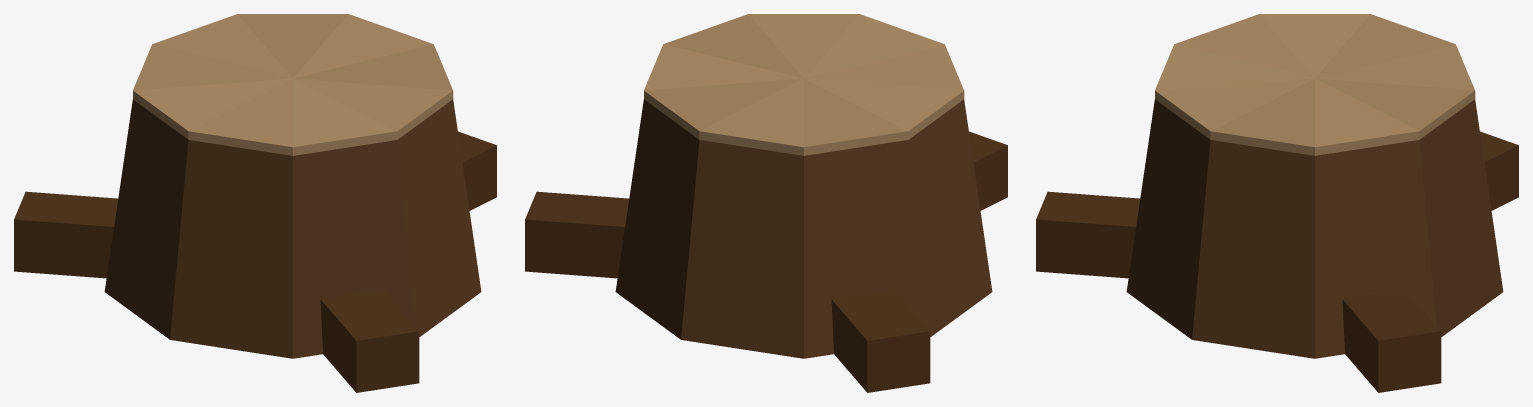
File: p_stump.glb
3 renders of one model, left to right at view 1: azimuth 30°, elevation 25°; view 2: azimuth 150°, elevation 25°; view 3: azimuth 270°, elevation 25°, orthographic.
Visible parts, largest first — view 1: p_stump; view 2: p_stump; view 3: p_stump.
Part boxes in pixels (x1,y1,x2,y2): p_stump: [14, 14, 496, 392]; p_stump: [525, 14, 1007, 392]; p_stump: [1036, 14, 1518, 392].
Bounding box in the file's own units: 0.5291 × 0.23 × 0.5049.
